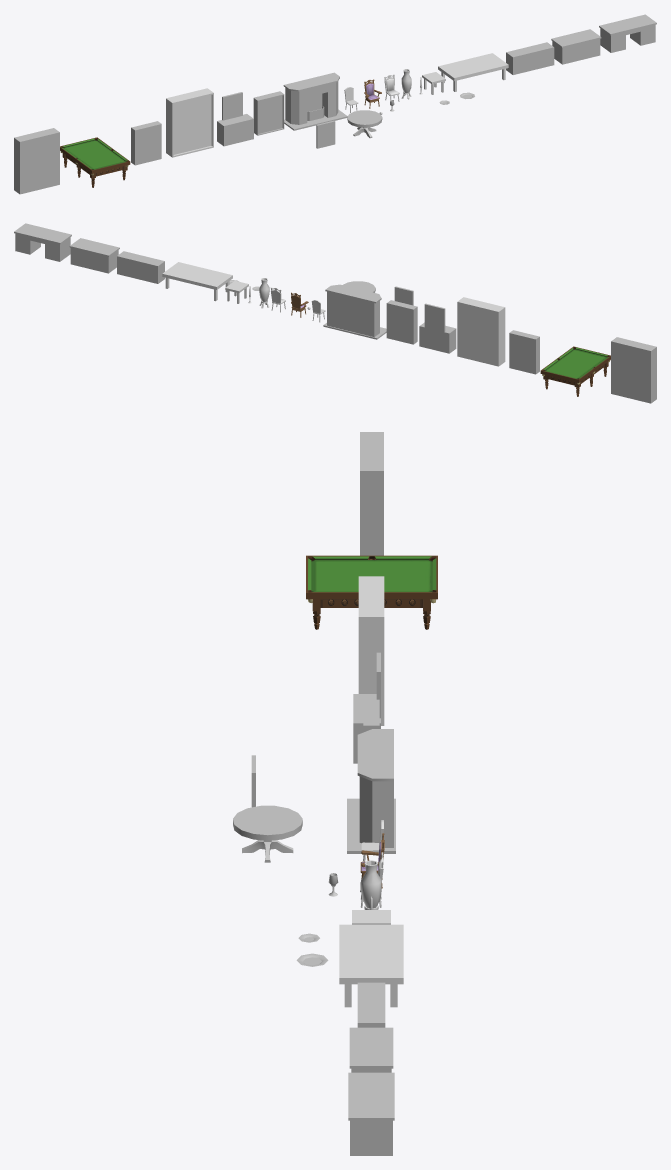
The model's file is GS_OBJ_PACK_A_1.FBX.
The picture shows the model from 3 angles, top to bottom: view 1: azimuth 30°, elevation 25°; view 2: azimuth 150°, elevation 25°; view 3: azimuth 270°, elevation 25°; orthographic projection. The views are drawn at different scales.
Parts seen in each view (by area): view 1: SA_L_Bookshelf, SA_Cabinet_002, SA_Fireplace_1, SA_Snooker_Table001, SA_Desk_A001, SA_Dresser_1, SA_Desk_A, SA_BooKShelf_1, SA_Table_l, SA_Cabinet_1, SA_Shelf_A, SA_Round_Table (+3 smaller); view 2: SA_L_Bookshelf, SA_Cabinet_002, SA_Fireplace_1, SA_Snooker_Table001, SA_Desk_A001, SA_Dresser_1, SA_Desk_A, SA_BooKShelf_1, SA_Table_l, SA_Cabinet_1, SA_Shelf_A, SA_Picture_1 (+1 smaller); view 3: SA_Snooker_Table001, SA_Fireplace_1, SA_Table_l, SA_Desk_A001, SA_L_Bookshelf, SA_Cabinet_002, SA_Round_Table, SA_Desk_A, SA_Shelf_A.
Boxes of the visible parts, <box> form: SA_L_Bookshelf: <box>166,88,213,157</box>; SA_Cabinet_002: <box>14,128,59,194</box>; SA_Fireplace_1: <box>283,72,347,130</box>; SA_Snooker_Table001: <box>60,137,130,187</box>; SA_Desk_A001: <box>599,14,656,52</box>; SA_Dresser_1: <box>217,92,253,146</box>; SA_Desk_A: <box>551,29,601,64</box>; SA_BooKShelf_1: <box>253,91,284,135</box>; SA_Table_l: <box>438,53,508,91</box>; SA_Cabinet_1: <box>131,121,161,165</box>; SA_Shelf_A: <box>506,42,554,74</box>; SA_Round_Table: <box>347,110,382,138</box>; SA_L_Bookshelf: <box>457,297,505,366</box>; SA_Cabinet_002: <box>611,337,656,403</box>; SA_Fireplace_1: <box>323,284,386,339</box>; SA_Snooker_Table001: <box>540,346,610,396</box>; SA_Desk_A001: <box>14,223,71,261</box>; SA_Dresser_1: <box>419,303,456,353</box>; SA_Desk_A: <box>69,238,119,273</box>; SA_BooKShelf_1: <box>386,300,417,344</box>; SA_Table_l: <box>162,262,232,301</box>; SA_Cabinet_1: <box>509,330,539,374</box>; SA_Shelf_A: <box>117,251,164,283</box>; SA_Picture_1: <box>394,286,413,305</box>; SA_Snooker_Table001: <box>306,555,437,629</box>; SA_Fireplace_1: <box>347,729,395,853</box>; SA_Table_l: <box>339,924,403,1007</box>; SA_Desk_A001: <box>348,1072,394,1155</box>; SA_L_Bookshelf: <box>358,576,384,725</box>; SA_Cabinet_002: <box>360,432,383,555</box>; SA_Round_Table: <box>233,805,302,862</box>; SA_Desk_A: <box>349,1027,393,1072</box>; SA_Shelf_A: <box>357,982,385,1027</box>.
Bounding box in the file's own units: 550 × 46.77 × 77.04.
